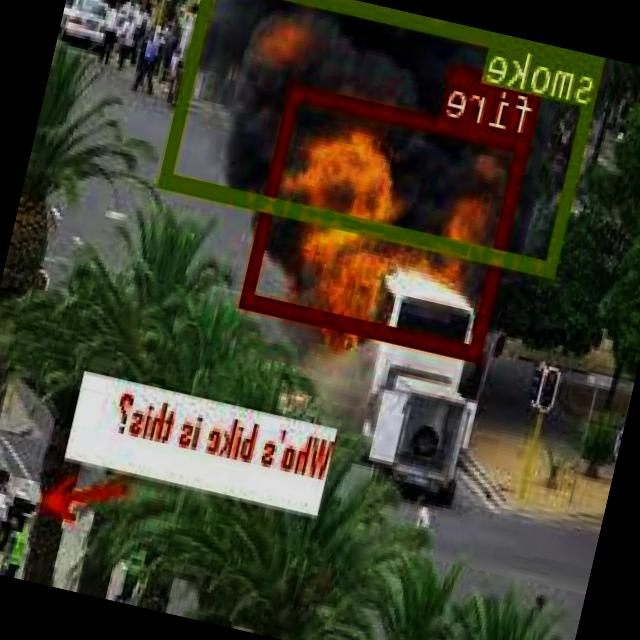fire: (244, 82, 534, 358)
smoke: (162, 0, 607, 273)
